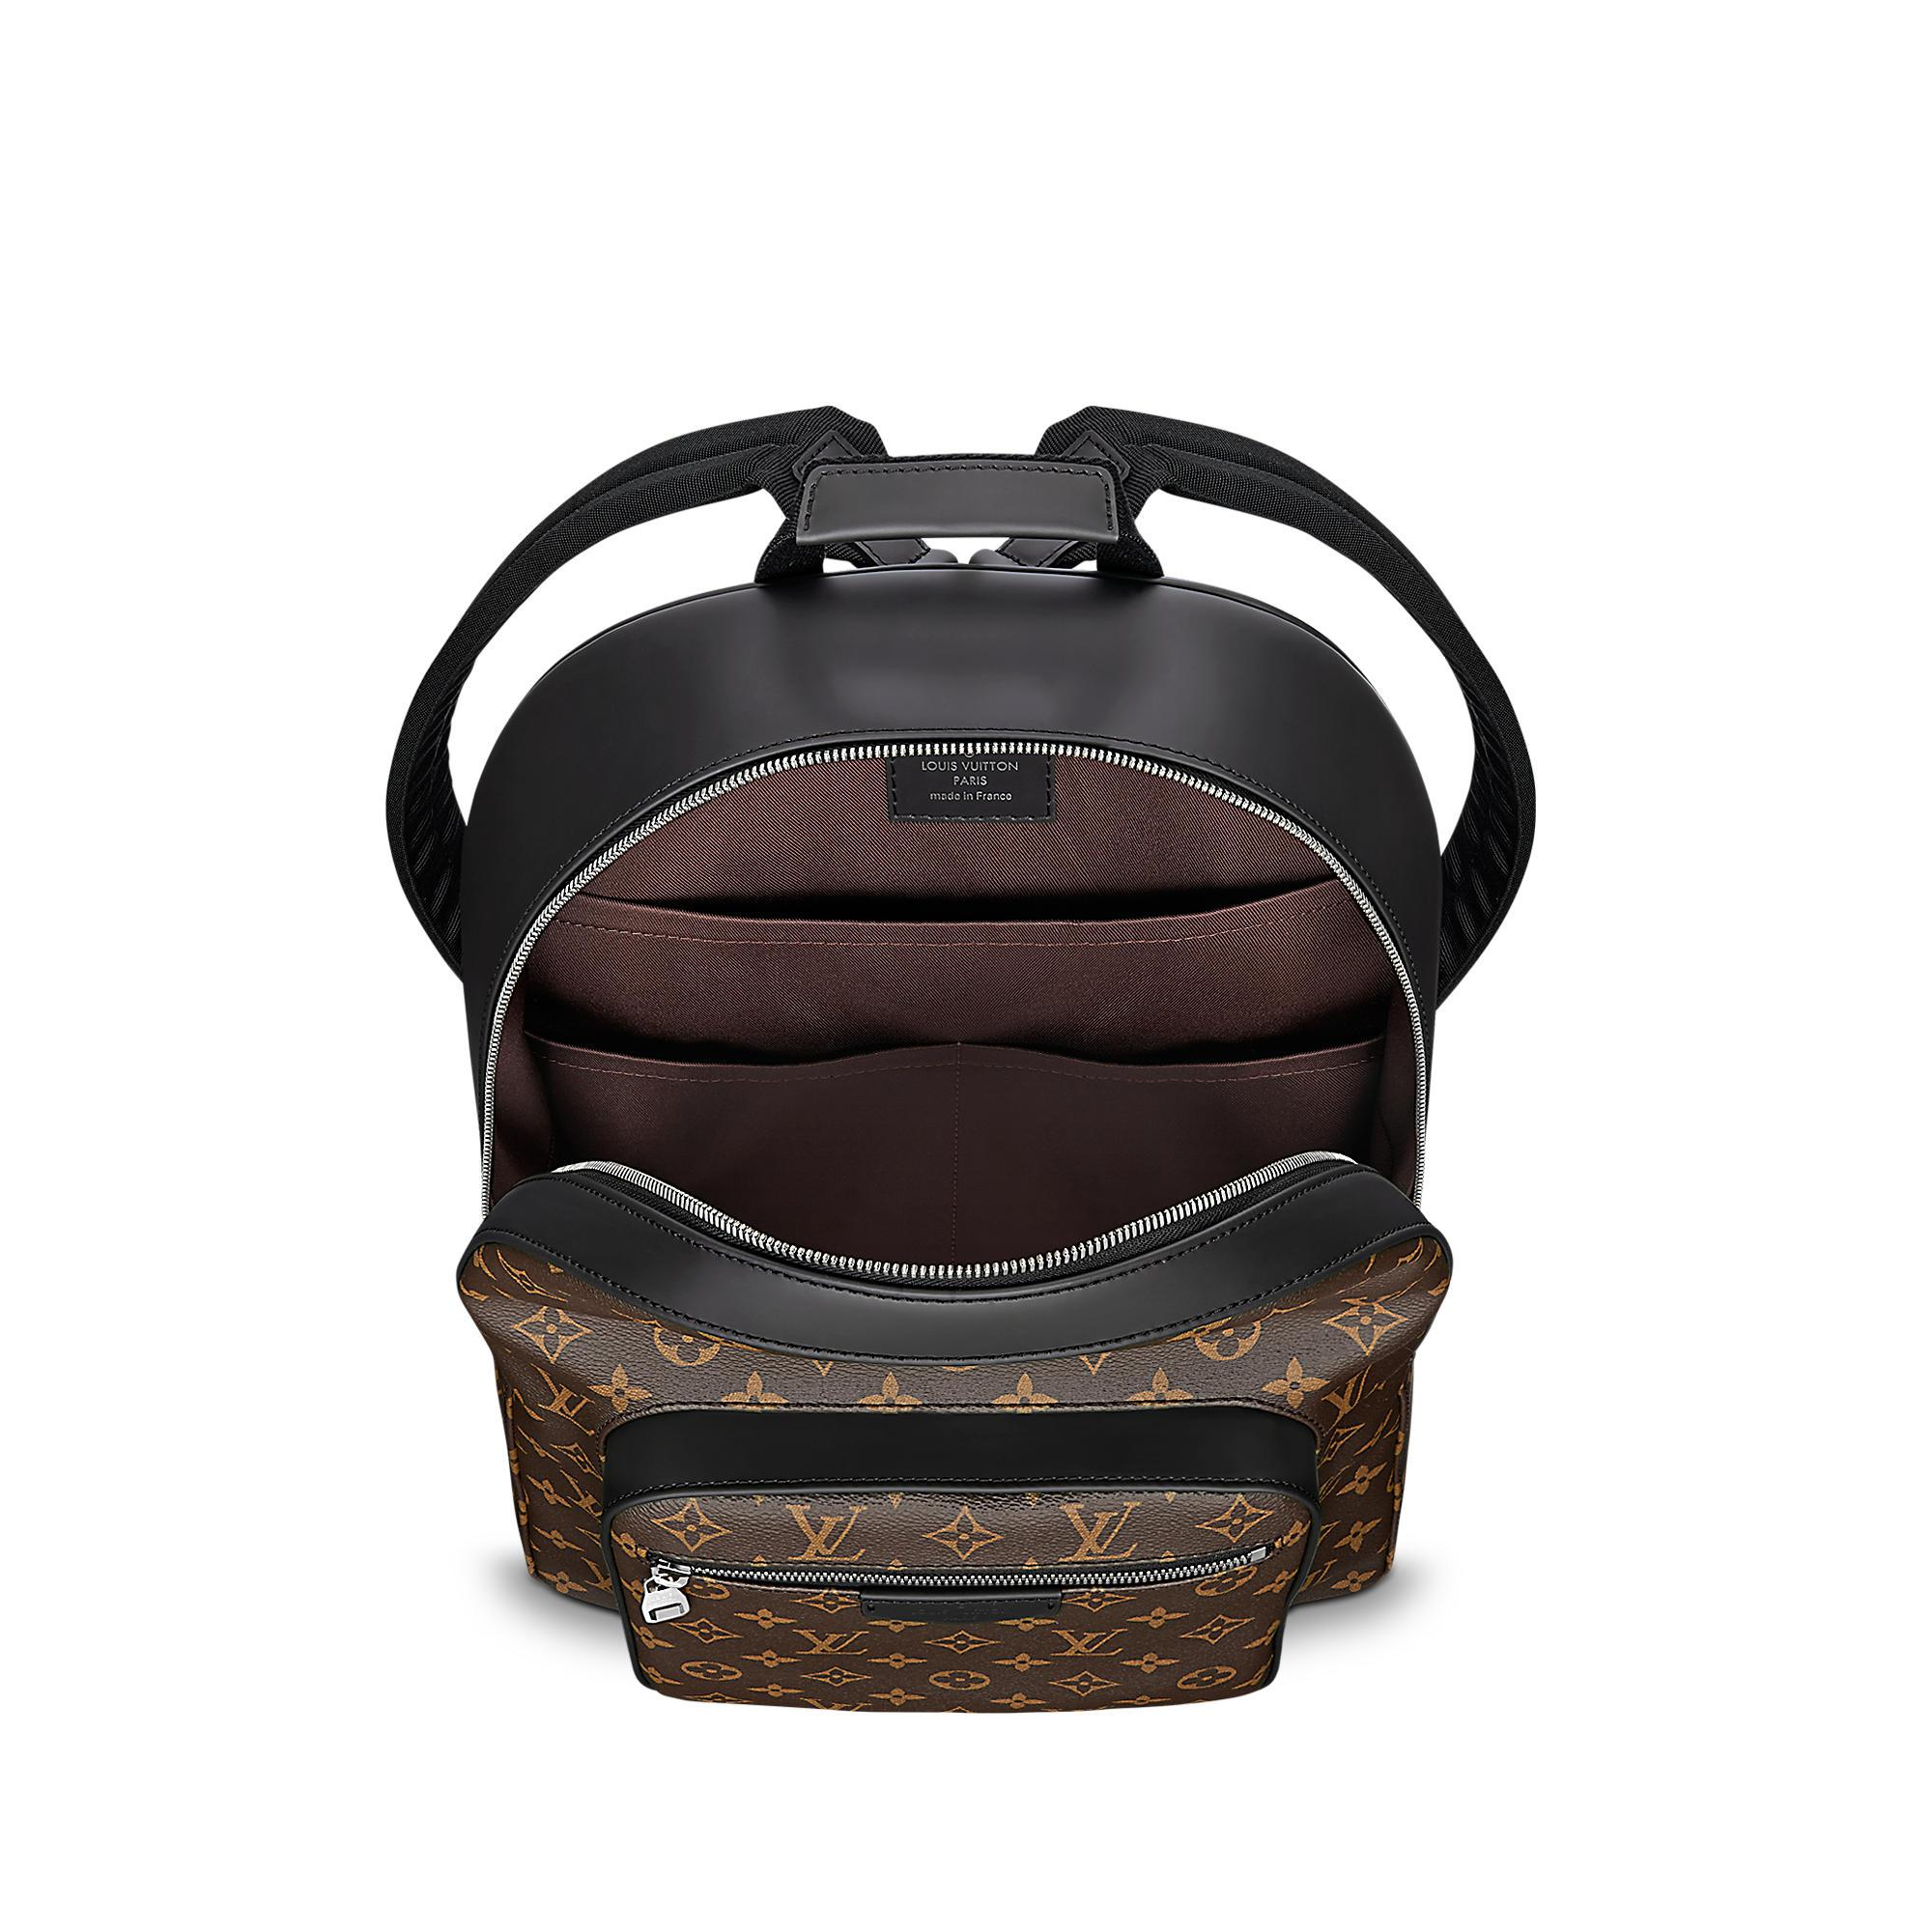LOUIS-VUITTON: (1056, 1497, 1141, 1569), (782, 1500, 869, 1566), (527, 1359, 596, 1438), (1322, 1361, 1385, 1438), (789, 1626, 870, 1661), (1046, 1626, 1125, 1658)
